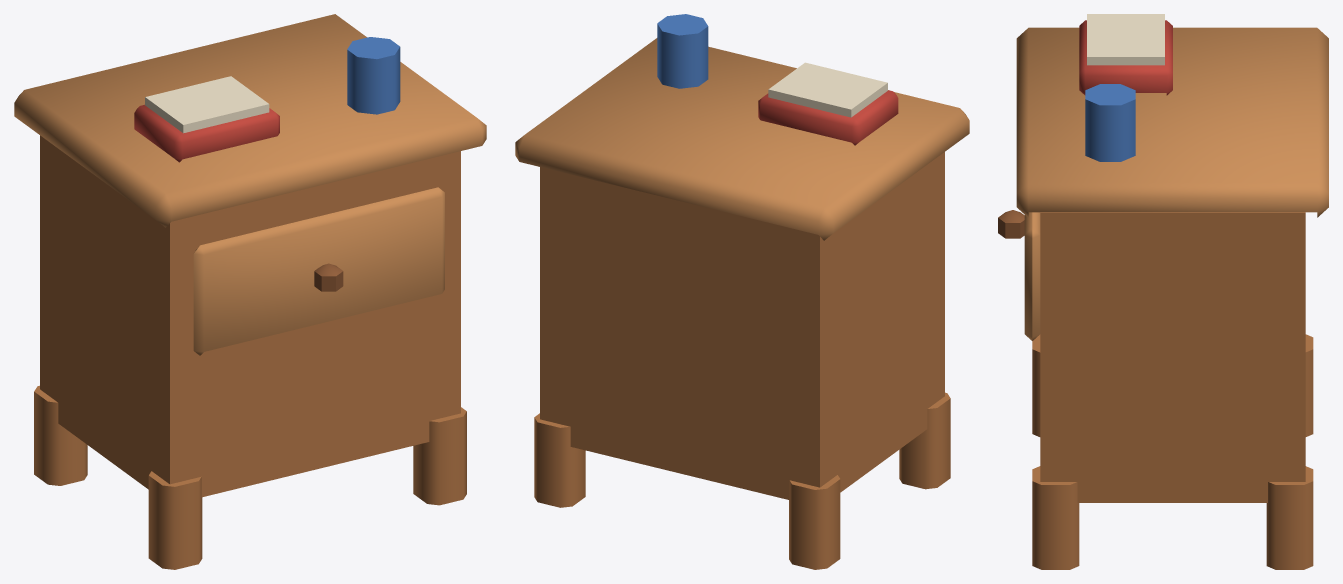
File: night_table.glb
3 views of the same model, side by side, from view 1: azimuth 30°, elevation 25°; view 2: azimuth 150°, elevation 25°; view 3: azimuth 270°, elevation 25° (orthographic). The views are drawn at different scales.
Visible parts, largest first — view 1: night_table; view 2: night_table; view 3: night_table.
Boxes of the visible parts, box(x1,y1,x2,y2) form: night_table: box(14, 14, 486, 569); night_table: box(515, 14, 969, 569); night_table: box(998, 14, 1328, 569).
Bounding box in the file's own units: 0.5 × 0.63 × 0.4241.
1 material, 1 textured.
